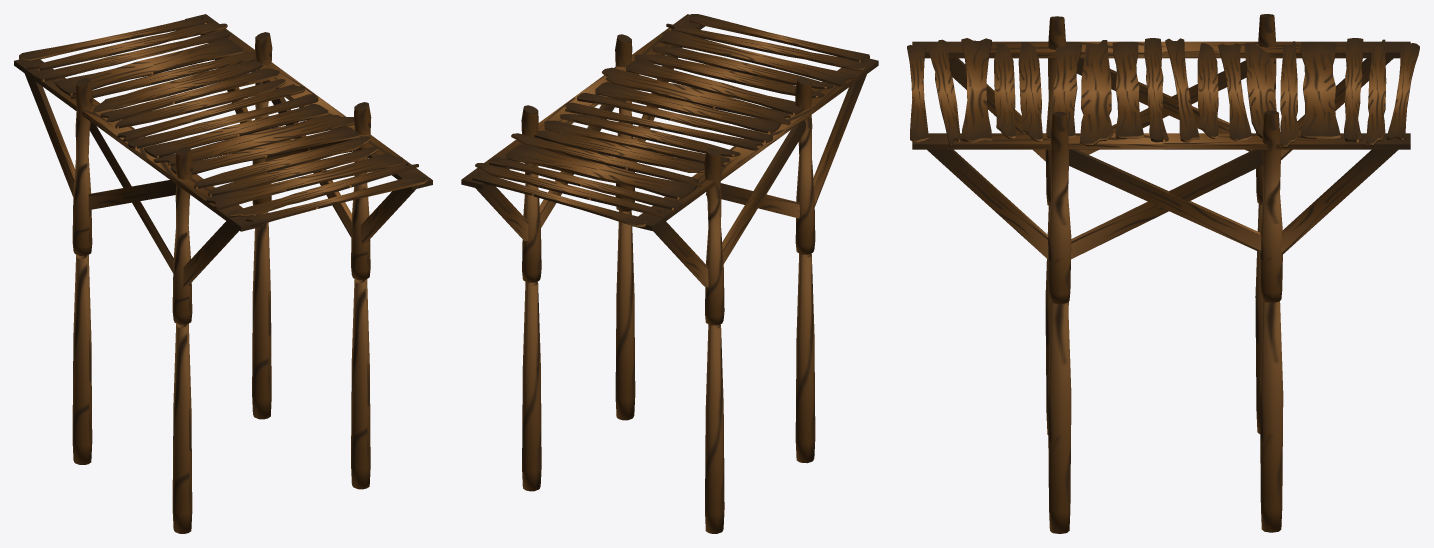
Rendered from BridgeReimport.glb.
The picture shows the model from 3 angles, left to right: view 1: azimuth 30°, elevation 25°; view 2: azimuth 150°, elevation 25°; view 3: azimuth 270°, elevation 25°; orthographic projection. The views are drawn at different scales.
Parts seen in each view (by area): view 1: 5x10Plane; view 2: 5x10Plane; view 3: 5x10Plane.
Part boxes in pixels (x1,y1,x2,y2): 5x10Plane: [14, 14, 432, 533]; 5x10Plane: [461, 14, 878, 533]; 5x10Plane: [907, 14, 1419, 533].
Bounding box in the file's own units: 5.02 × 8.98 × 9.98.
Materials: 1 (1 with a texture image).
